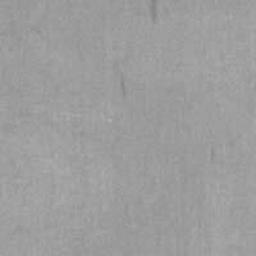Oil spot: (148, 0, 163, 28), (119, 70, 129, 101)
